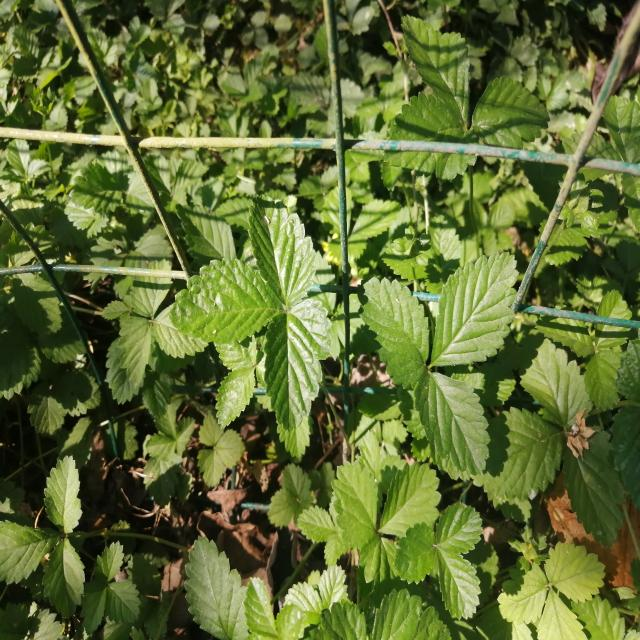Mock_strawberry: (243, 456, 493, 640), (164, 199, 350, 446), (356, 262, 524, 484)
